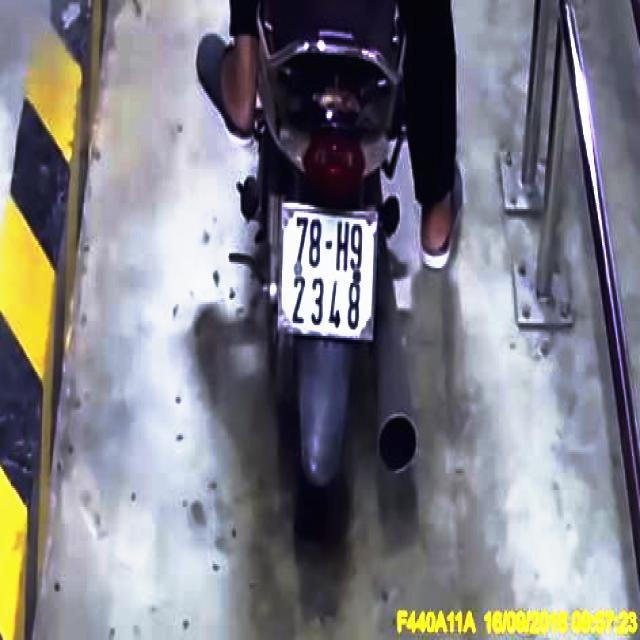license_plate: (283, 205, 376, 341)
